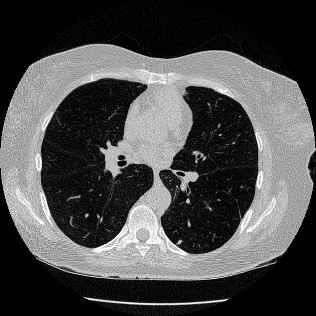nodule: (177, 240, 181, 244)
